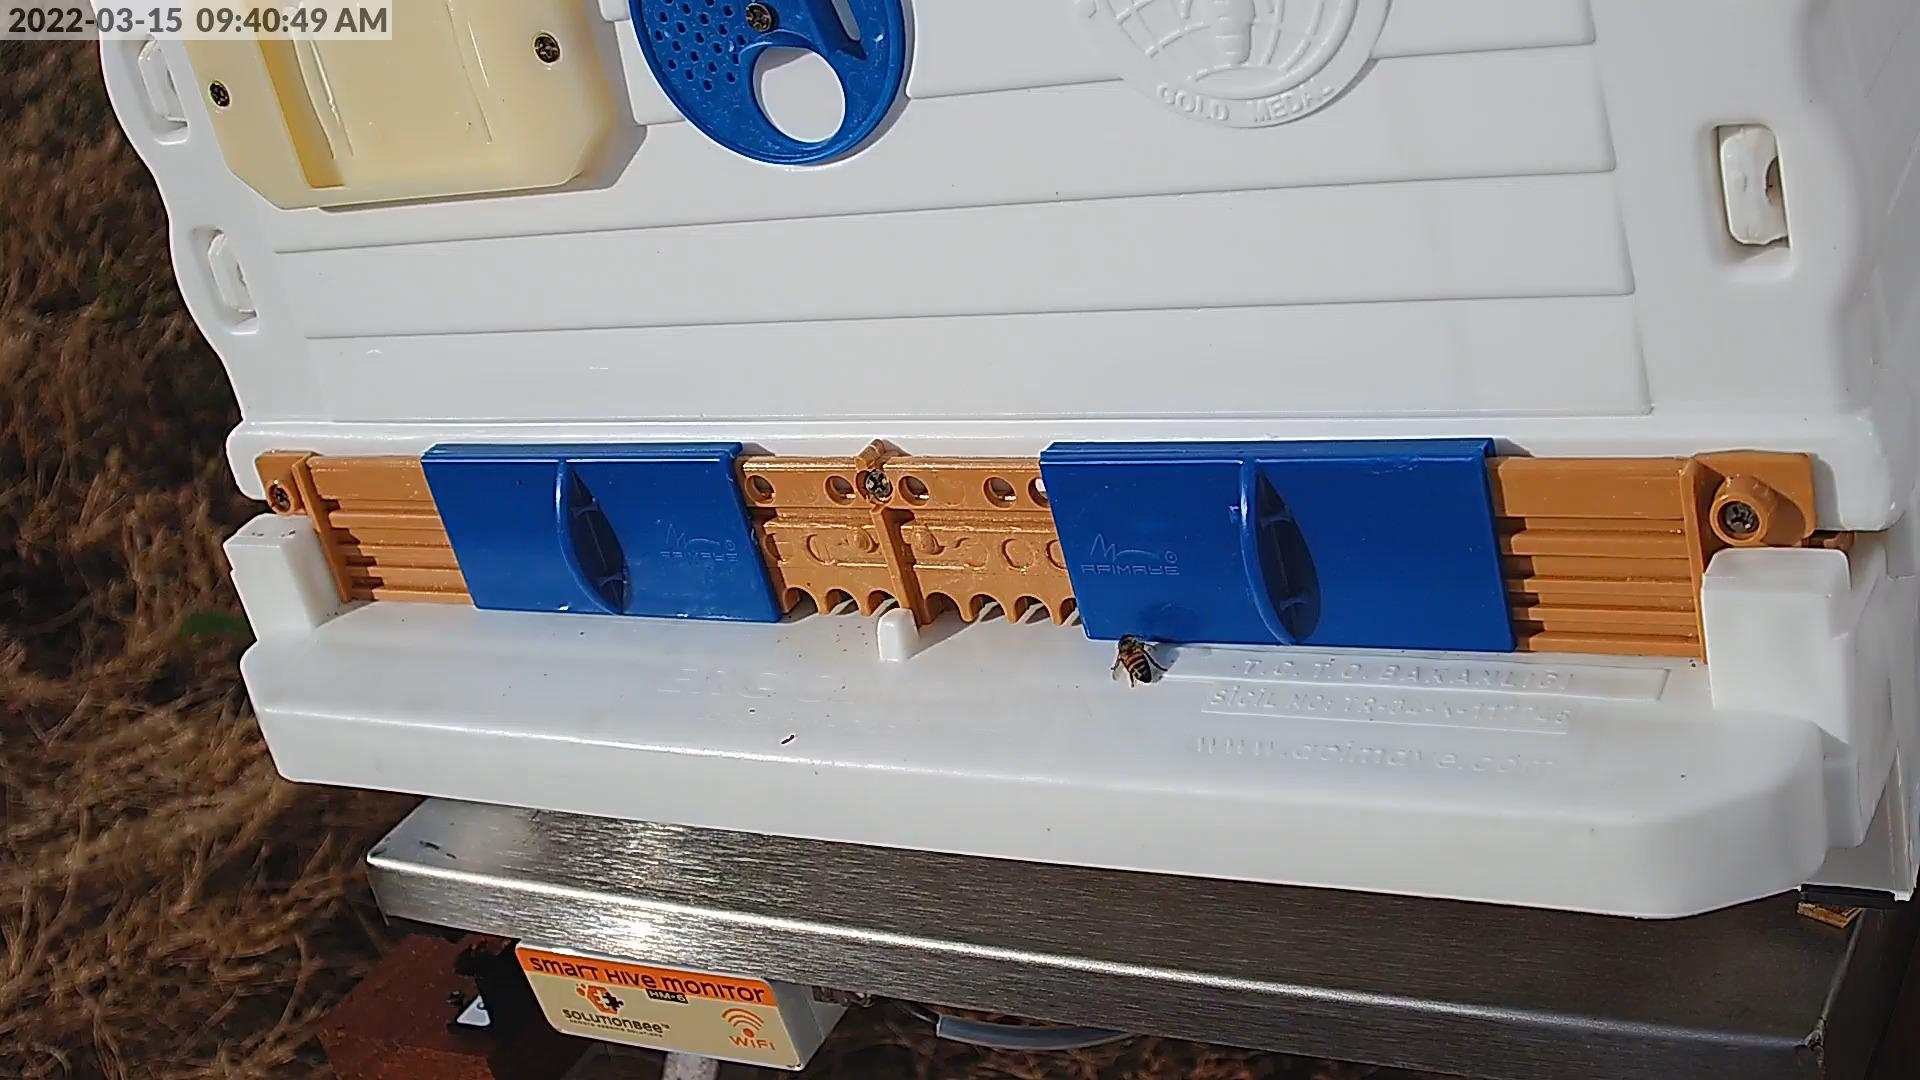bee: (1119, 633, 1152, 682)
